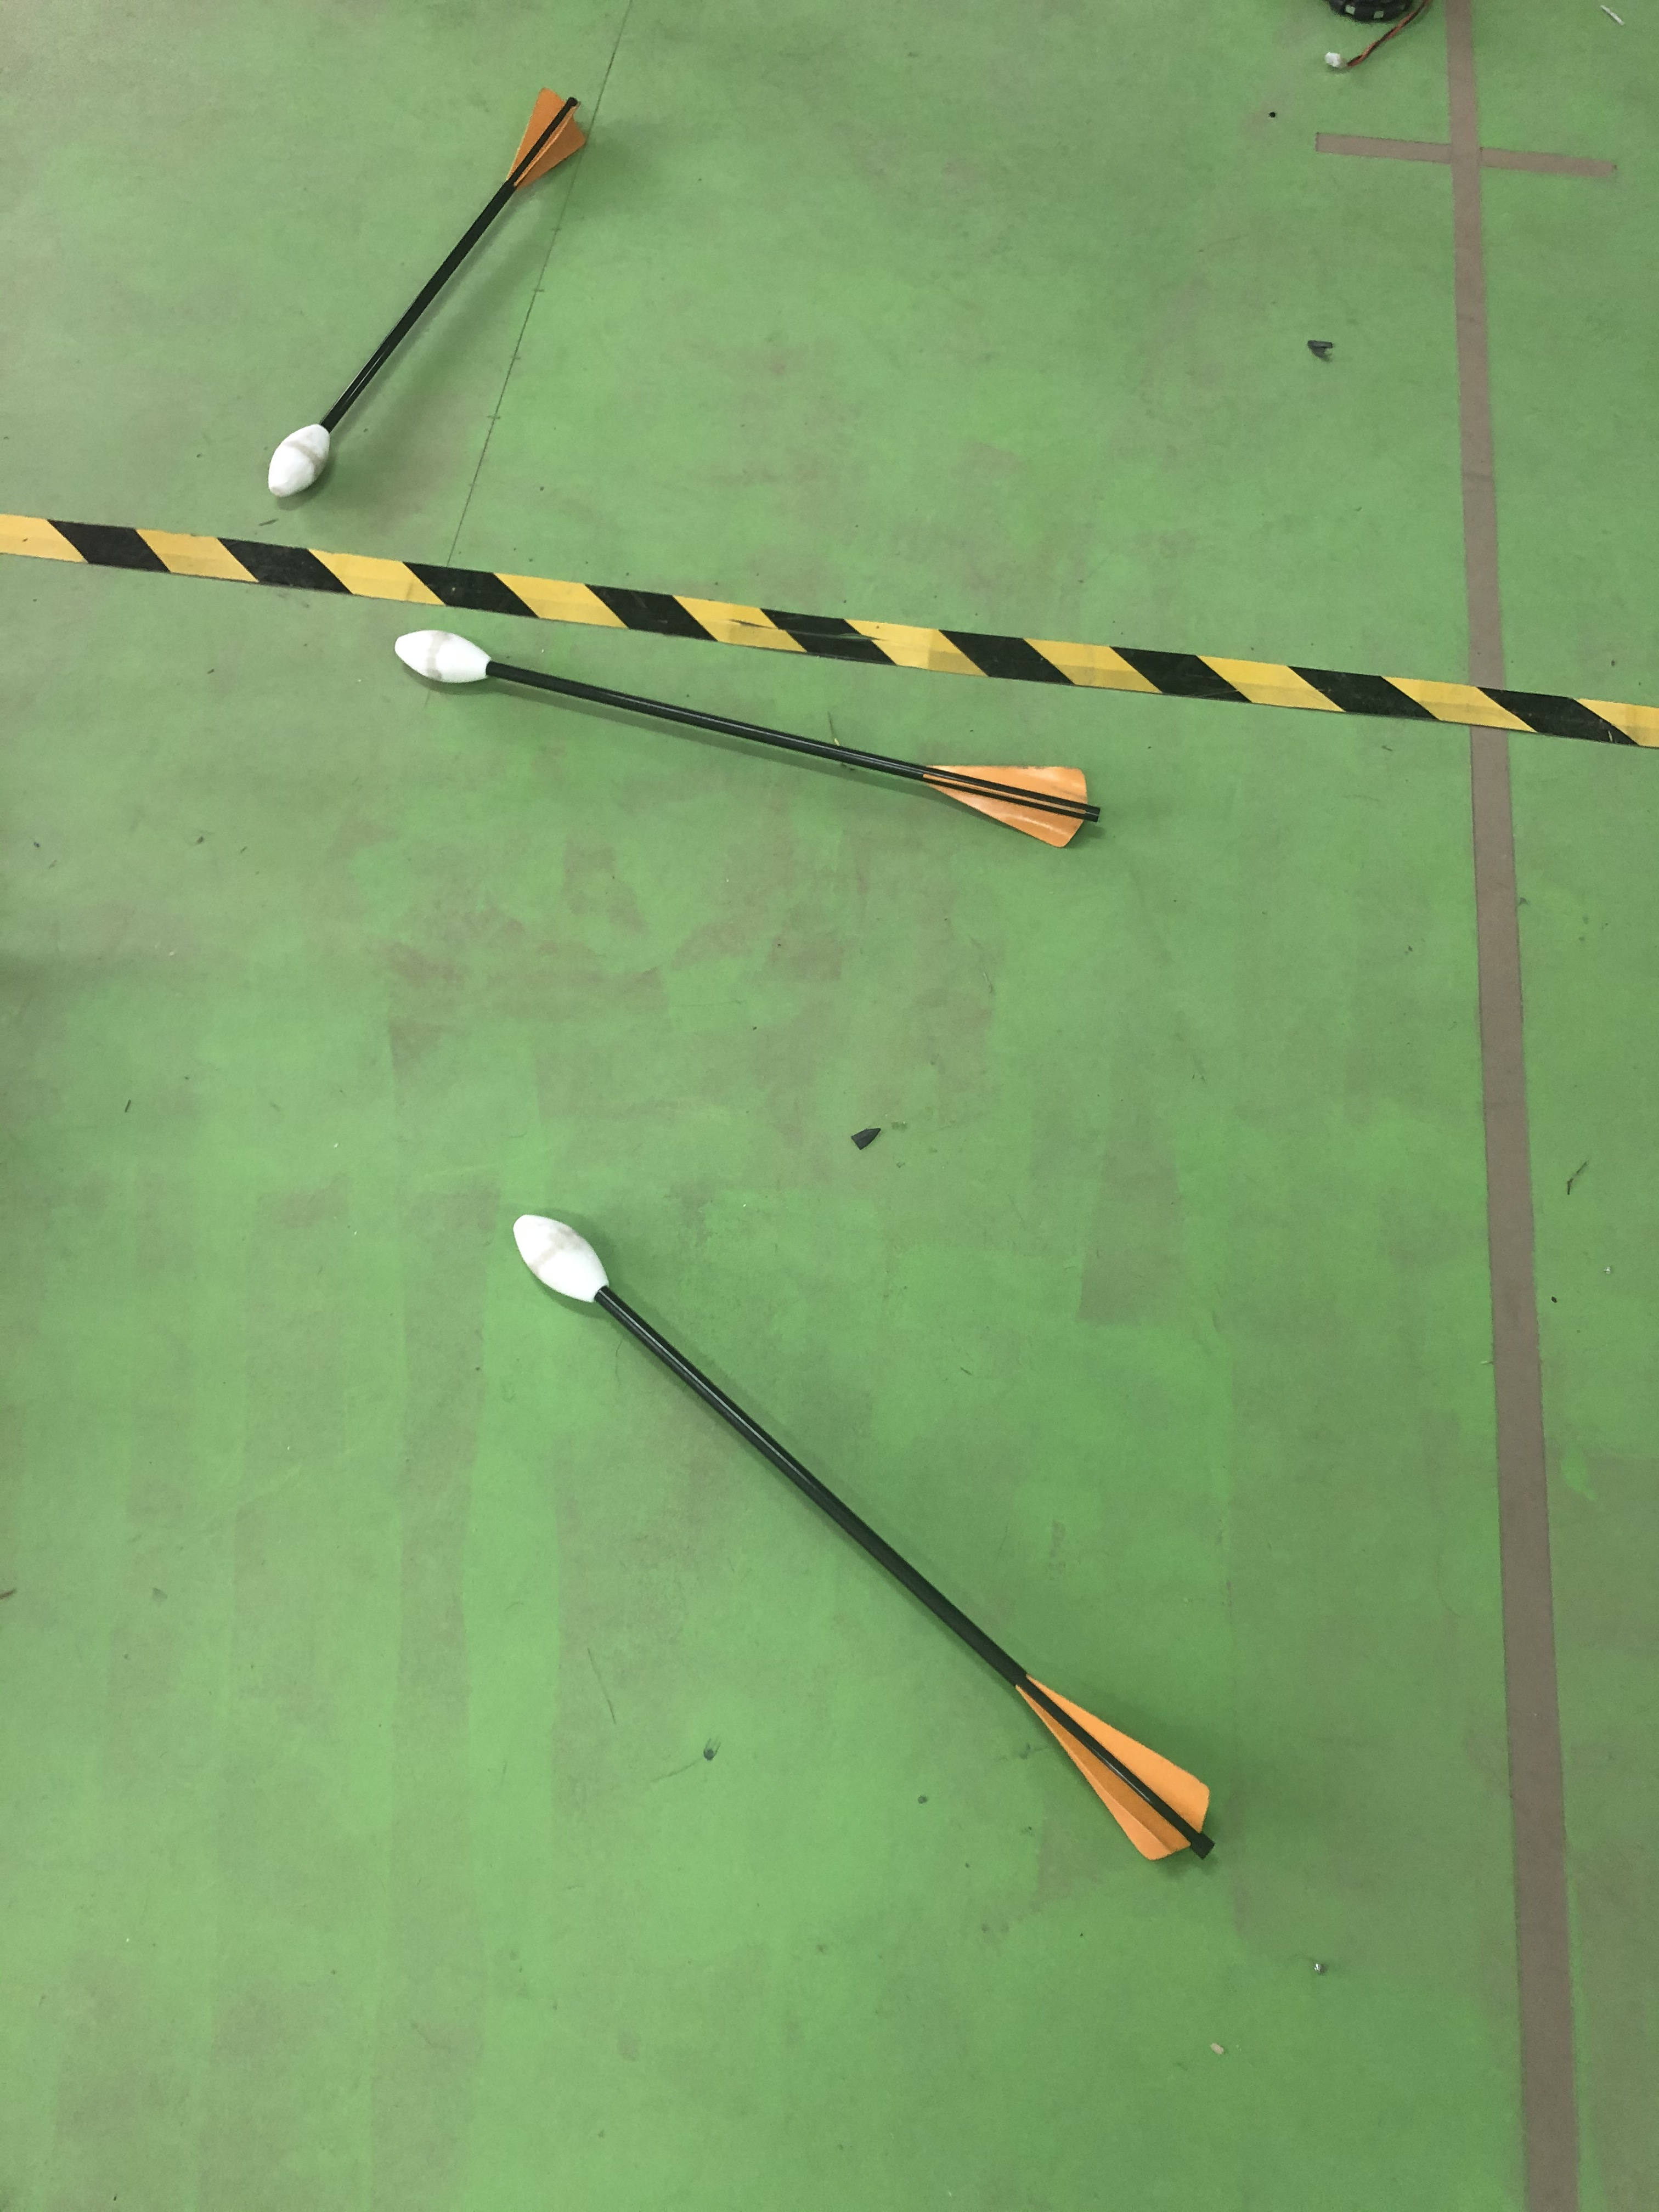arrow: (505, 1209, 1216, 1867), (389, 624, 1107, 852), (258, 85, 591, 503)
arrowFront: (505, 1211, 610, 1303), (389, 624, 500, 686), (263, 415, 336, 509)
